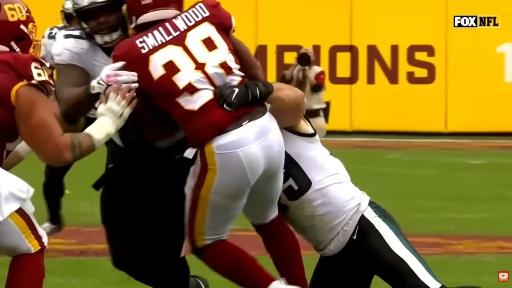Helmet: (71, 0, 125, 46), (0, 0, 40, 56), (126, 0, 183, 28), (61, 0, 74, 26)
Jersey: (113, 0, 255, 147), (280, 129, 369, 255), (0, 52, 54, 155), (52, 27, 112, 80), (0, 168, 34, 221), (40, 24, 67, 65)
Player: (113, 0, 307, 287), (267, 95, 446, 287), (0, 0, 135, 165), (95, 120, 207, 287), (41, 0, 77, 65), (42, 164, 73, 236)
